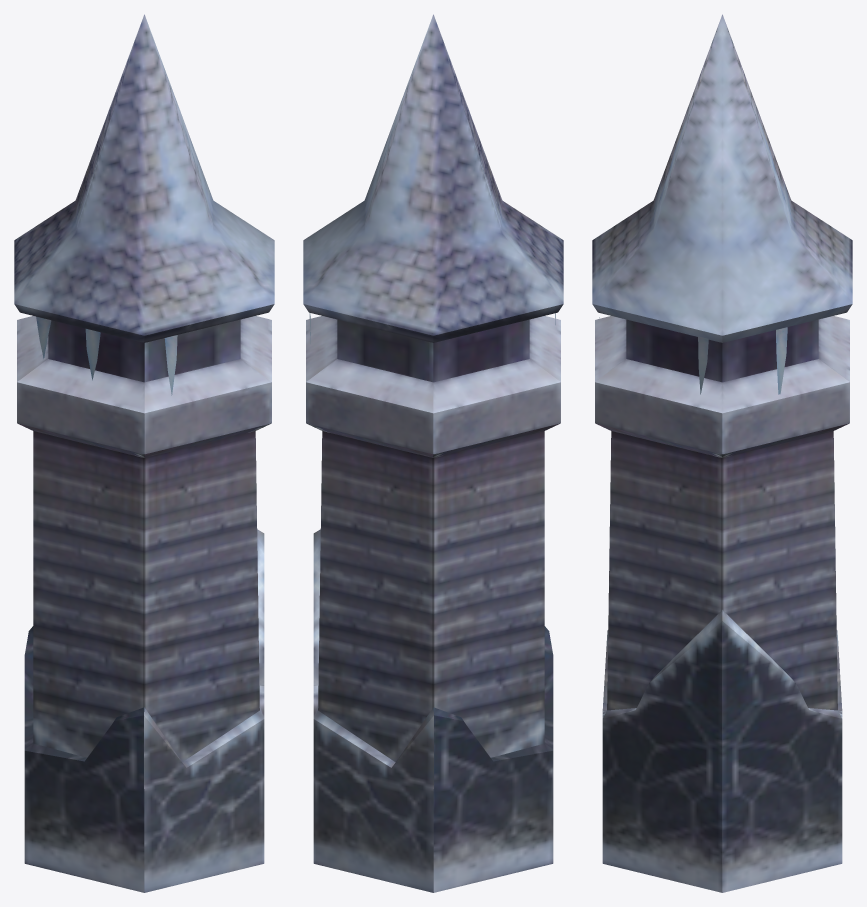
File: yw_wanglingzhita_fangwu02.FBX
3 renders of one model, left to right at view 1: azimuth 30°, elevation 25°; view 2: azimuth 150°, elevation 25°; view 3: azimuth 270°, elevation 25°, orthographic.
Parts seen in each view (by area): view 1: yw_wanglingzhita_fangwu02; view 2: yw_wanglingzhita_fangwu02; view 3: yw_wanglingzhita_fangwu02.
Part boxes in pixels (x1,y1,x2,y2): yw_wanglingzhita_fangwu02: (14, 14, 274, 892); yw_wanglingzhita_fangwu02: (303, 14, 563, 892); yw_wanglingzhita_fangwu02: (592, 14, 852, 892).
Size of the model in its own units: 319 by 959 by 276.
